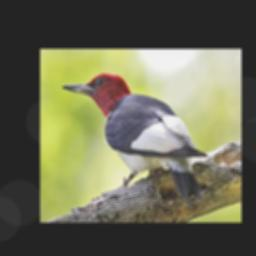Woodpecker: (63, 73, 206, 207)
